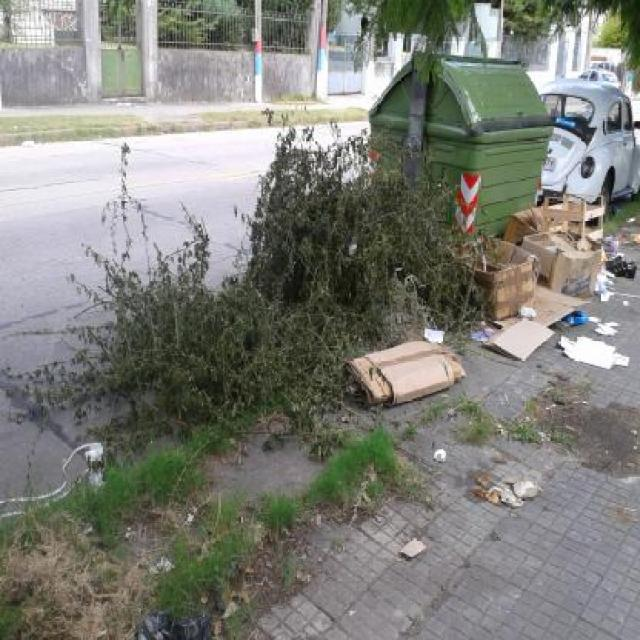garbage: (463, 193, 608, 352), (334, 331, 477, 414)
